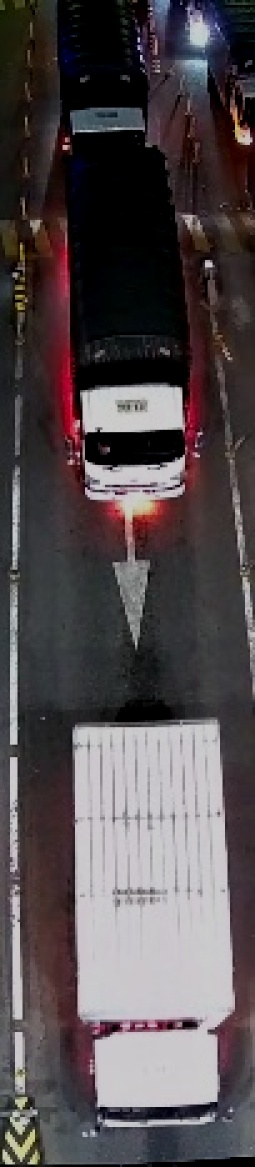truck: (62, 700, 234, 1136), (61, 150, 188, 510), (50, 0, 160, 152)
